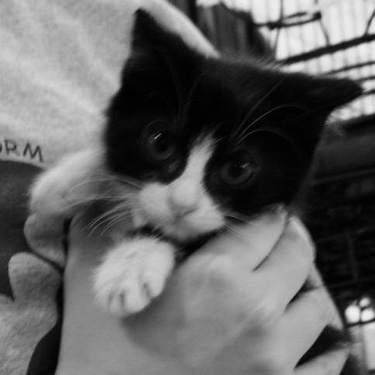cat: (26, 10, 370, 320)
